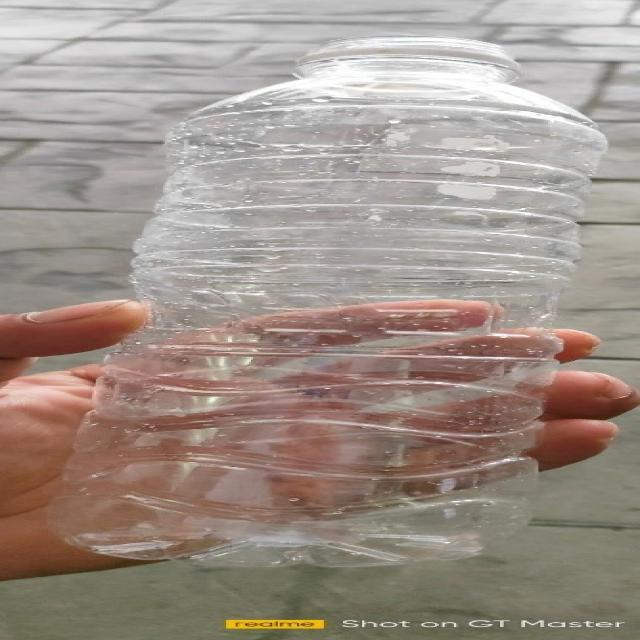bottle: (56, 35, 610, 565)
